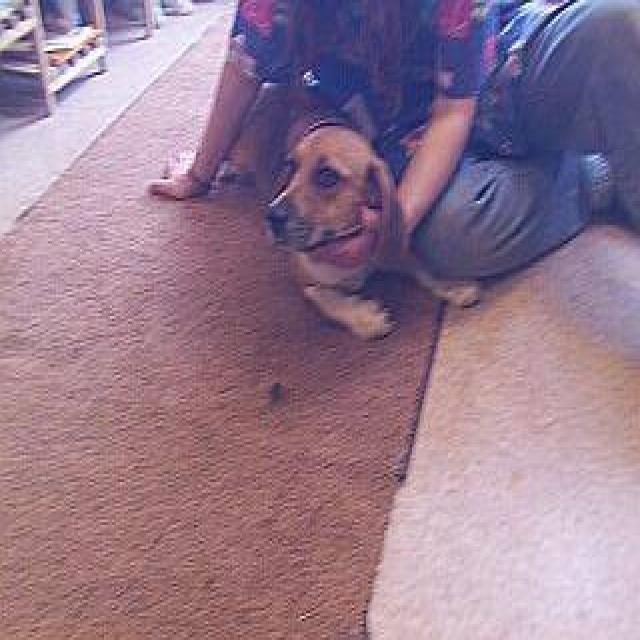dogs: (220, 66, 440, 347)
